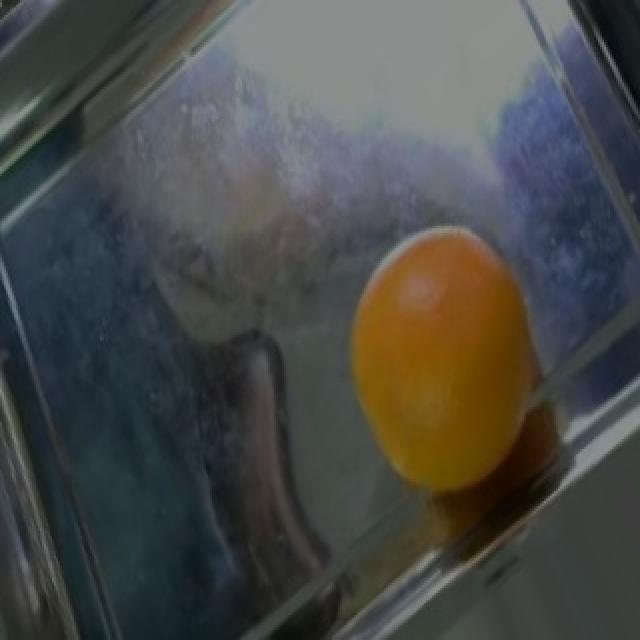Fruit: (328, 226, 562, 516)
